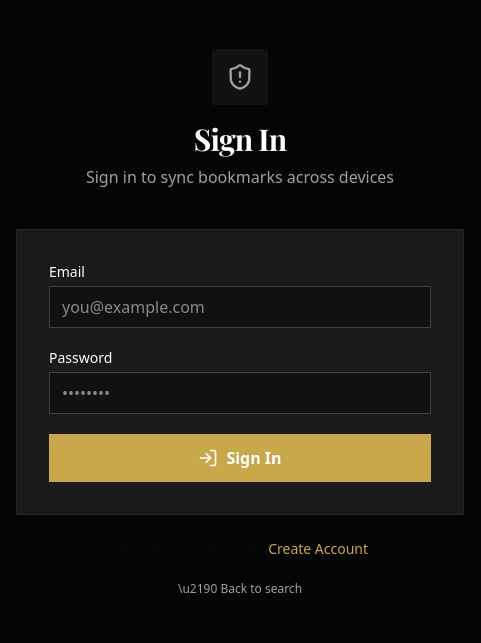
Scenario: AuthPage › error message displays on failed sign-in
The image size is (481, 643).
Type "bad@test.com" into the field with placeholder "you@example.com" at (240,307), box top-left (49, 286), bottom-right (431, 328)
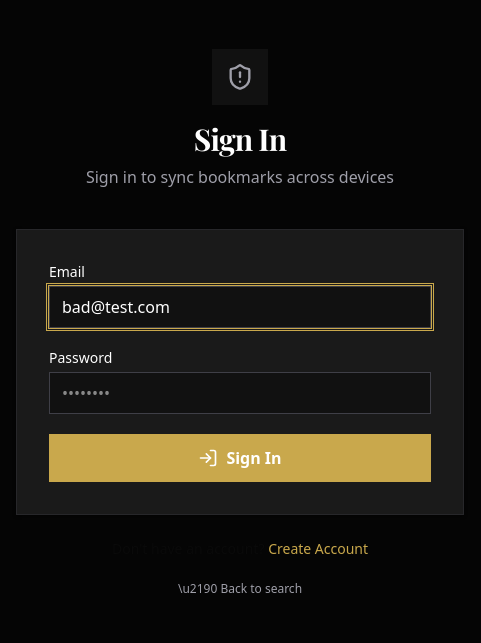
Type "wrongpw" into the password field with placeholder "••••••••" at (240,393), box top-left (49, 372), bottom-right (431, 414)
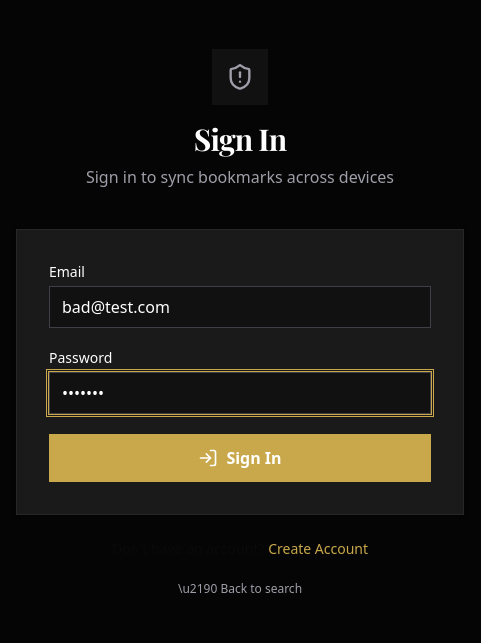
Click the button "Sign In" at (240,458), box top-left (49, 434), bottom-right (431, 482)
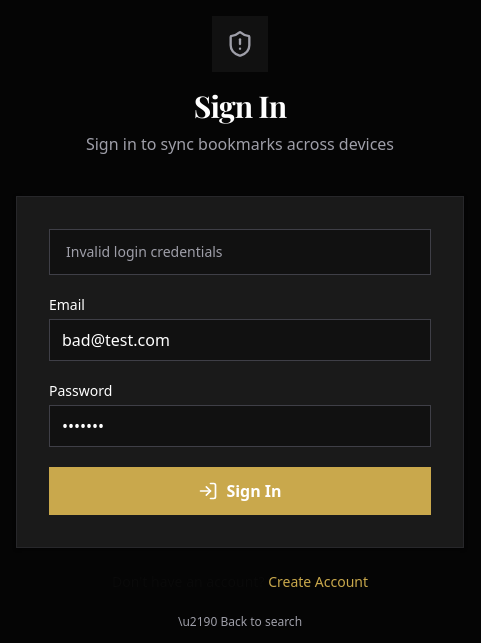
Expected: the text "Invalid login credentials" is shown, top-left (49, 229), bottom-right (431, 275)
